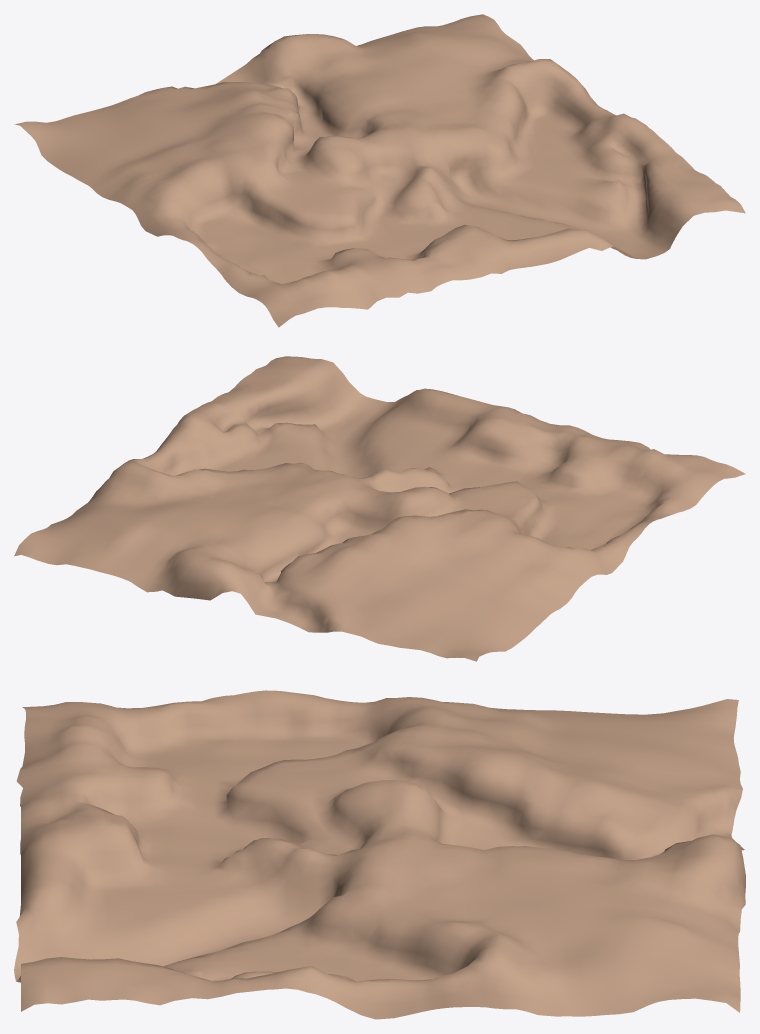
Rendered from CrashSite5.3.fbx.
3 views of the same model, one above another, from view 1: azimuth 30°, elevation 25°; view 2: azimuth 150°, elevation 25°; view 3: azimuth 270°, elevation 25° (orthographic). The views are drawn at different scales.
Parts seen in each view (by area): view 1: plane-retopo 1; view 2: plane-retopo 1; view 3: plane-retopo 1.
Part boxes in pixels (<box>): plane-retopo 1: <box>14,14,745,327</box>; plane-retopo 1: <box>14,356,745,661</box>; plane-retopo 1: <box>14,690,745,1019</box>.
Bounding box in the file's own units: 303 × 41.03 × 305.
